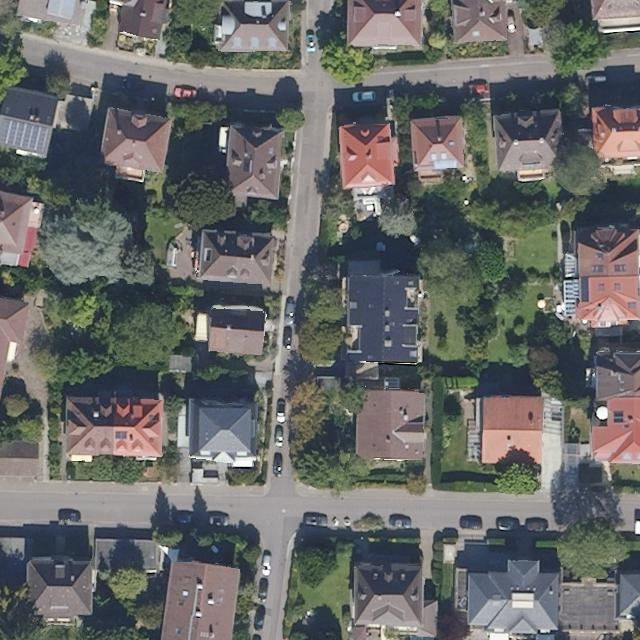PV: (0, 117, 50, 153), (613, 411, 624, 422), (115, 431, 127, 440)
